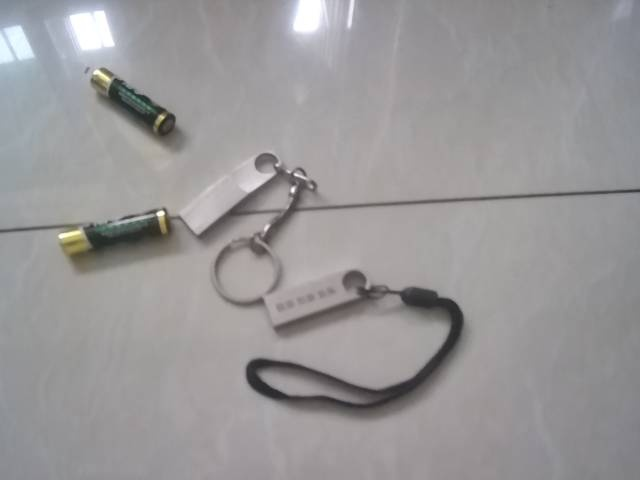U-disk: (256, 270, 467, 419), (178, 148, 324, 271)
battery: (86, 64, 179, 141), (54, 204, 175, 258)
